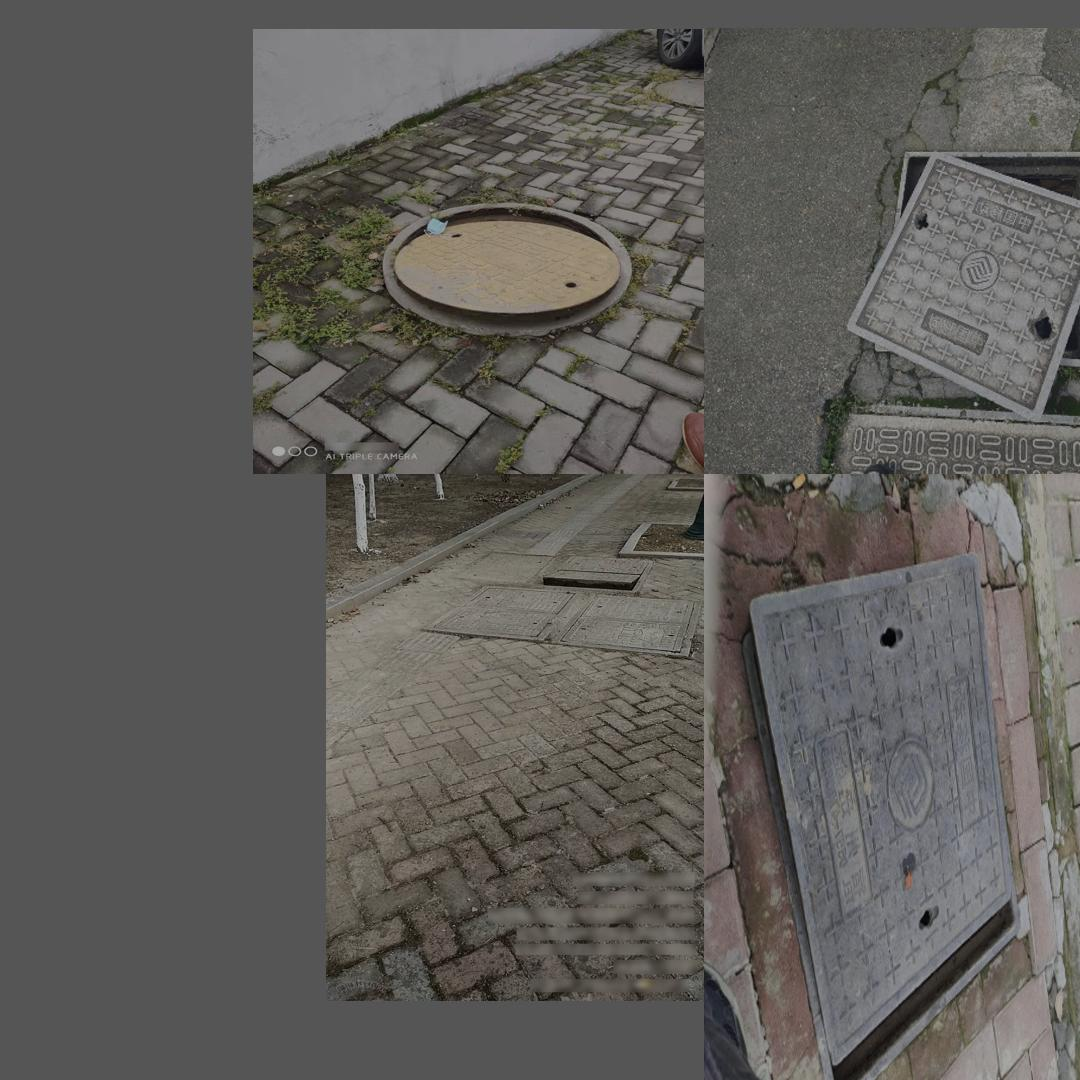good: (420, 584, 702, 658)
uncovered: (732, 548, 1021, 1080), (846, 149, 1080, 417), (380, 202, 633, 337), (541, 554, 654, 590)
